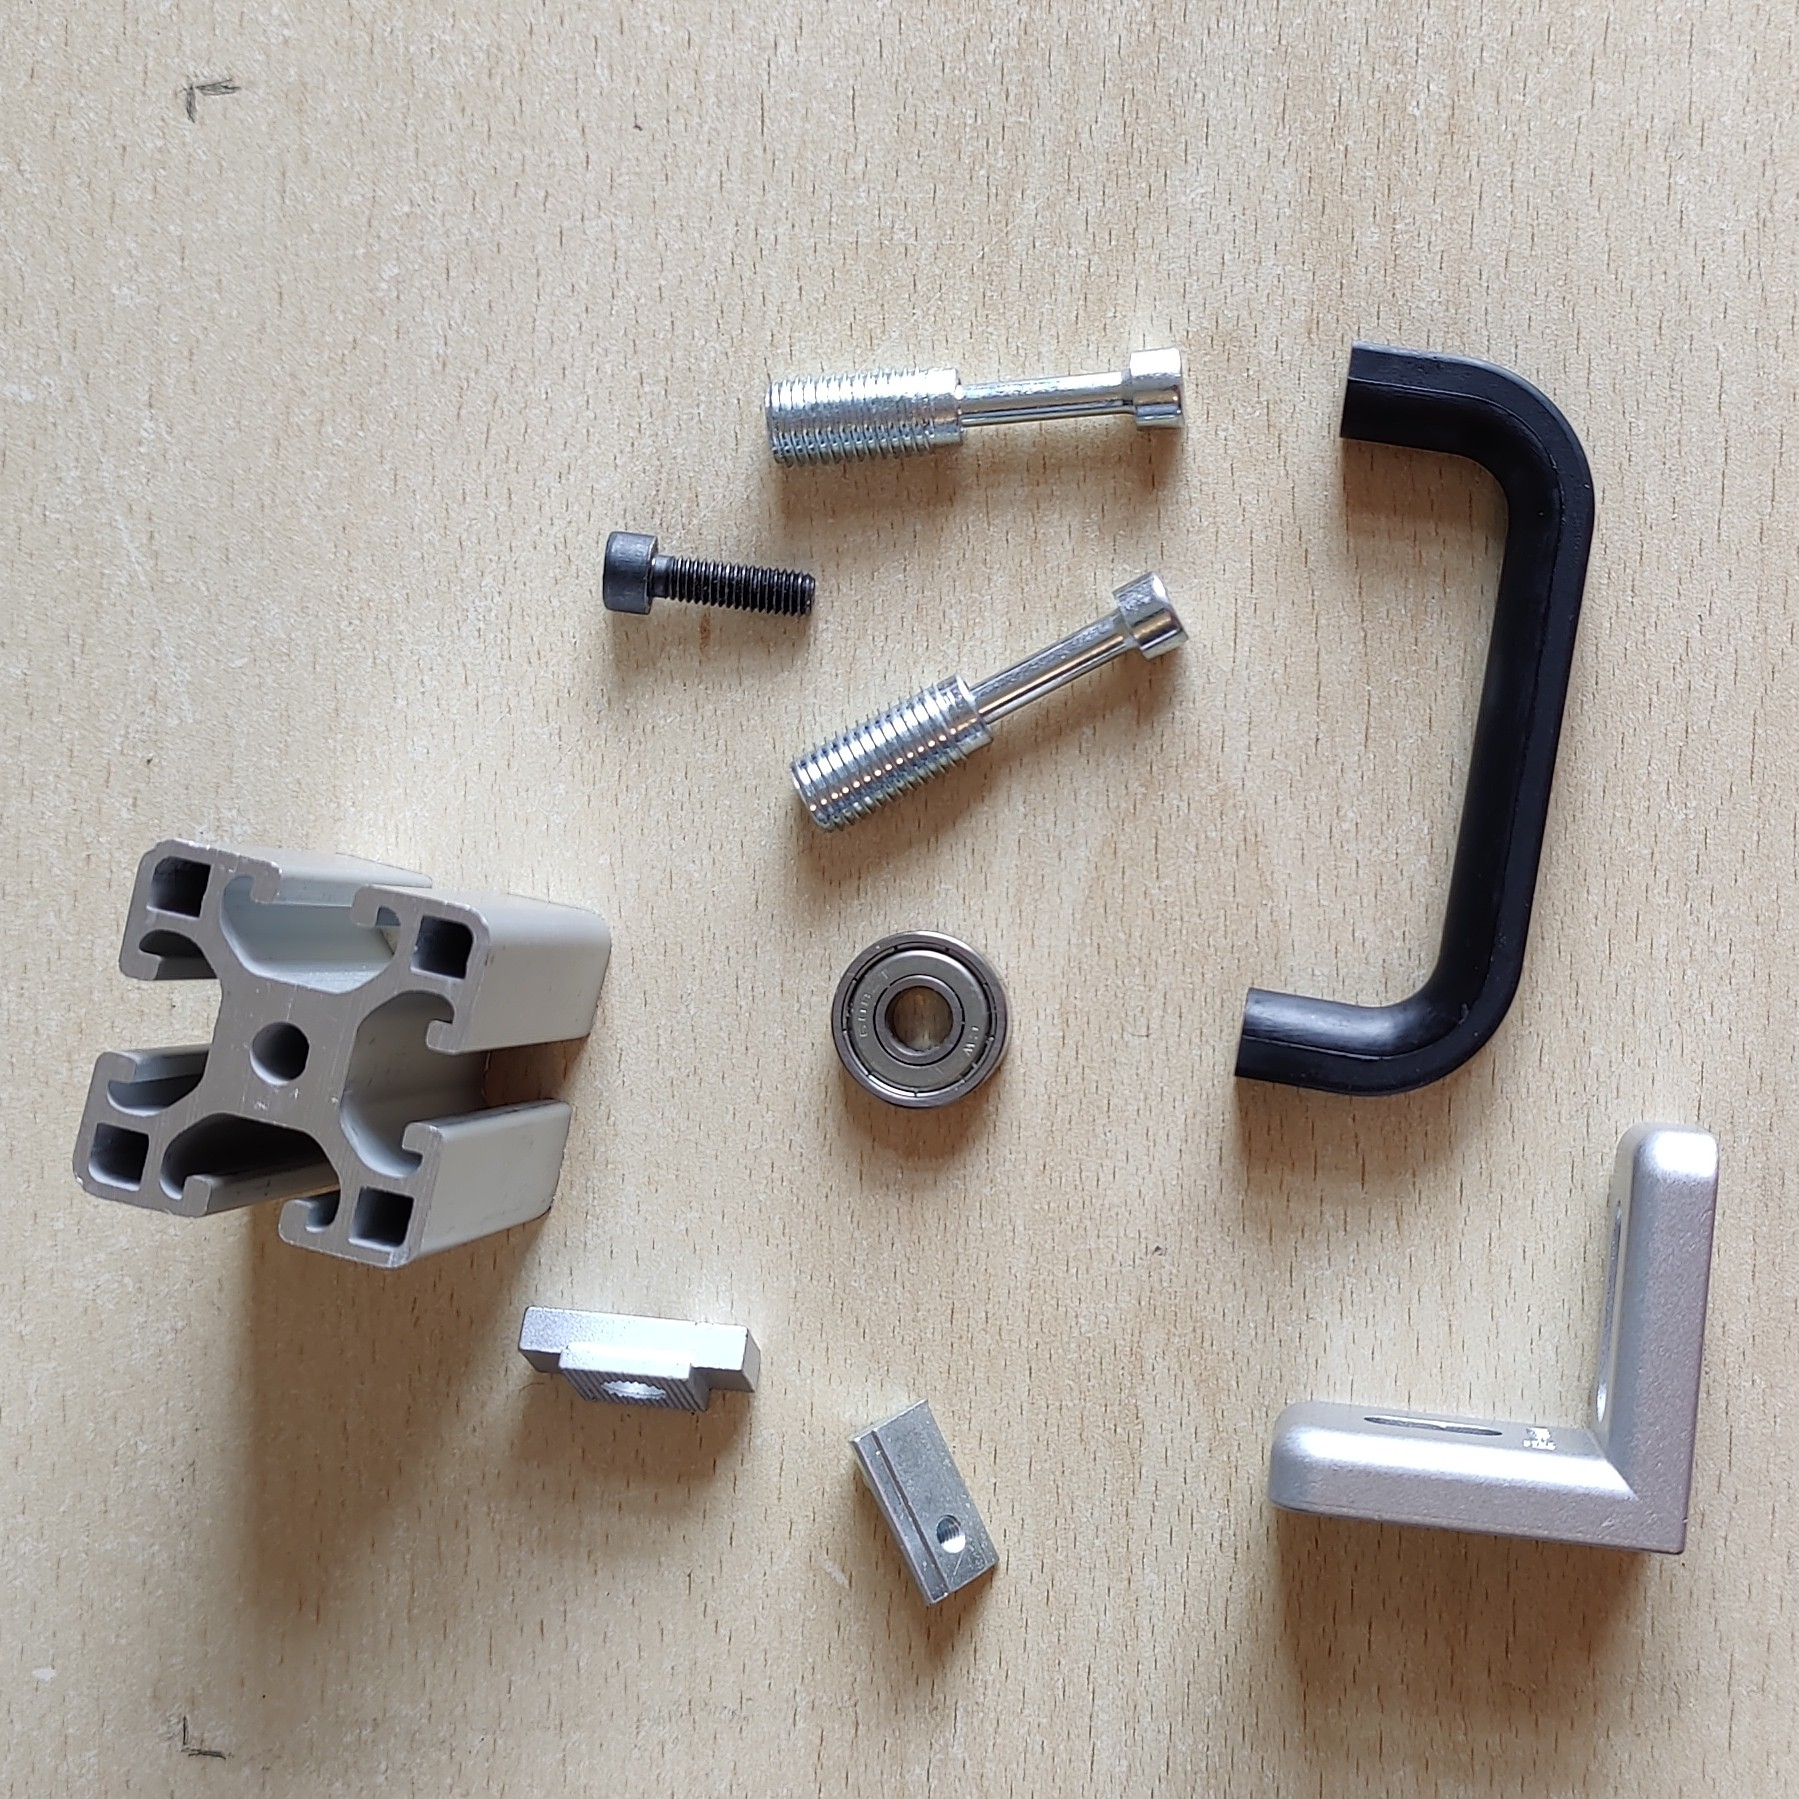Aluminium Extension: (69, 837, 611, 1272)
Ball Bearing: (829, 931, 1015, 1114)
Multiwinkel: (1265, 1122, 1718, 1557)
Pull Handle: (1231, 344, 1600, 1097)
Shoulder Socket Head Cap Screw: (787, 568, 1193, 835), (764, 344, 1188, 471)
Socket Head Cap Screw: (601, 529, 819, 623)
T Nut Square: (516, 1306, 764, 1413)
T Spring Nut: (847, 1399, 1000, 1611)
